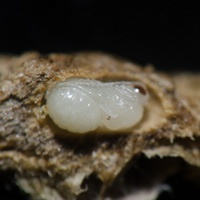insect: (0, 53, 199, 199)
